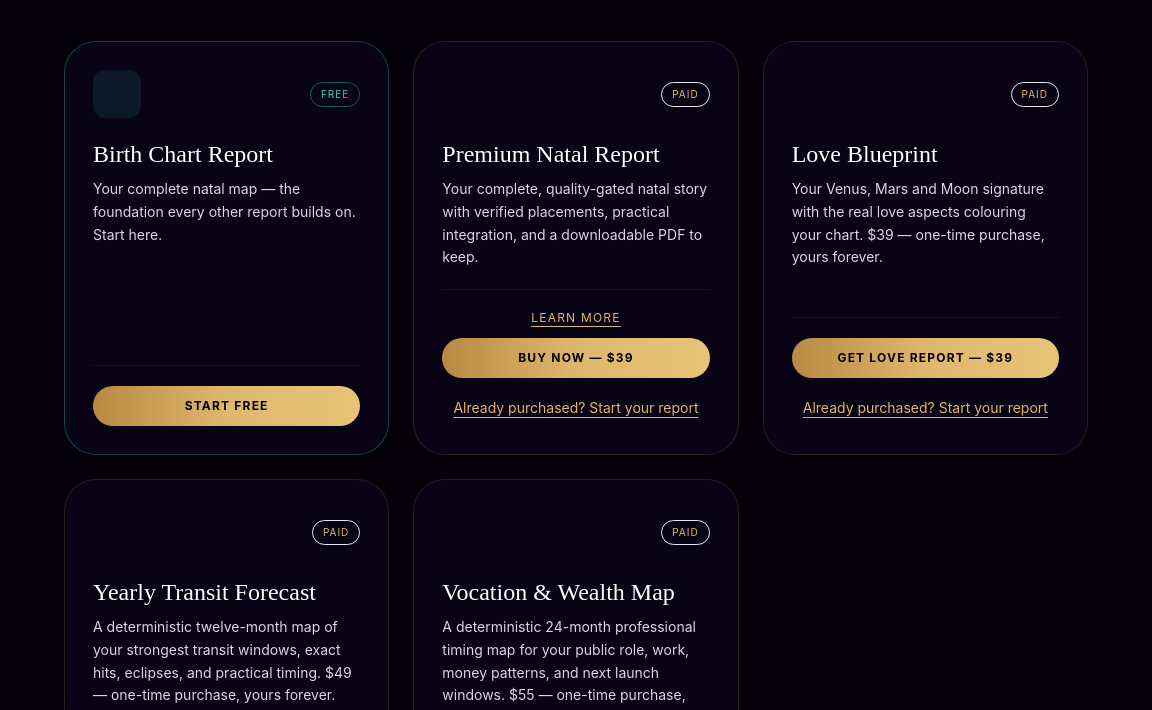
Test: ReportsView paid-report delivery gate › shows needs_editor as a truthful non-ready state without dossier controls
The width and height of the screenshot is (1152, 710).
(page scrolled)
Click the button "BUY NOW — $39" at point(576, 358), box [442, 338, 710, 378]
(page scrolled)
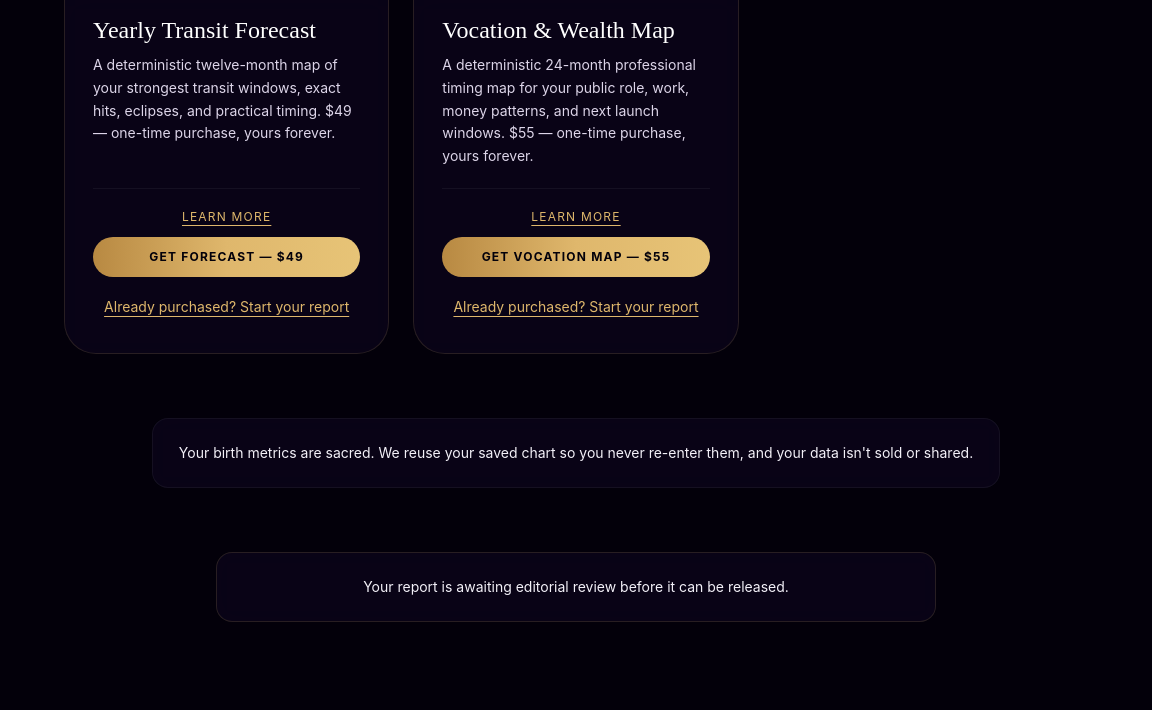
Check: the text "editorial review" is shown, box [363, 578, 789, 595]
